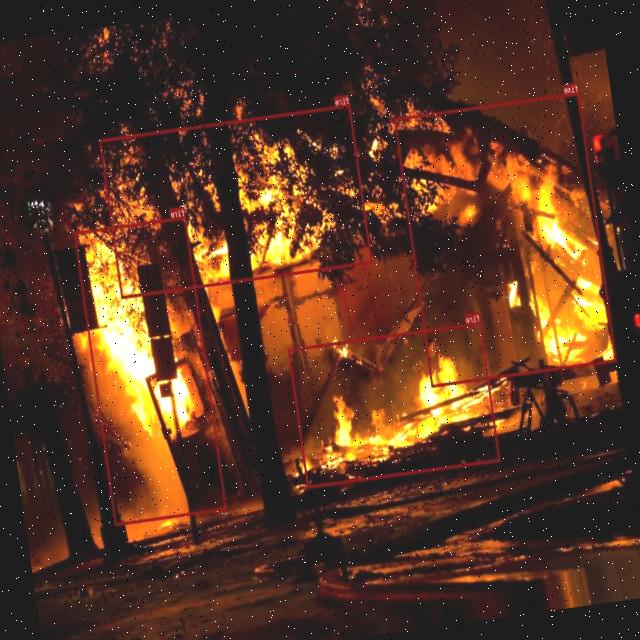fire: (394, 92, 617, 387), (99, 104, 373, 298), (74, 215, 228, 526), (288, 322, 501, 488)
